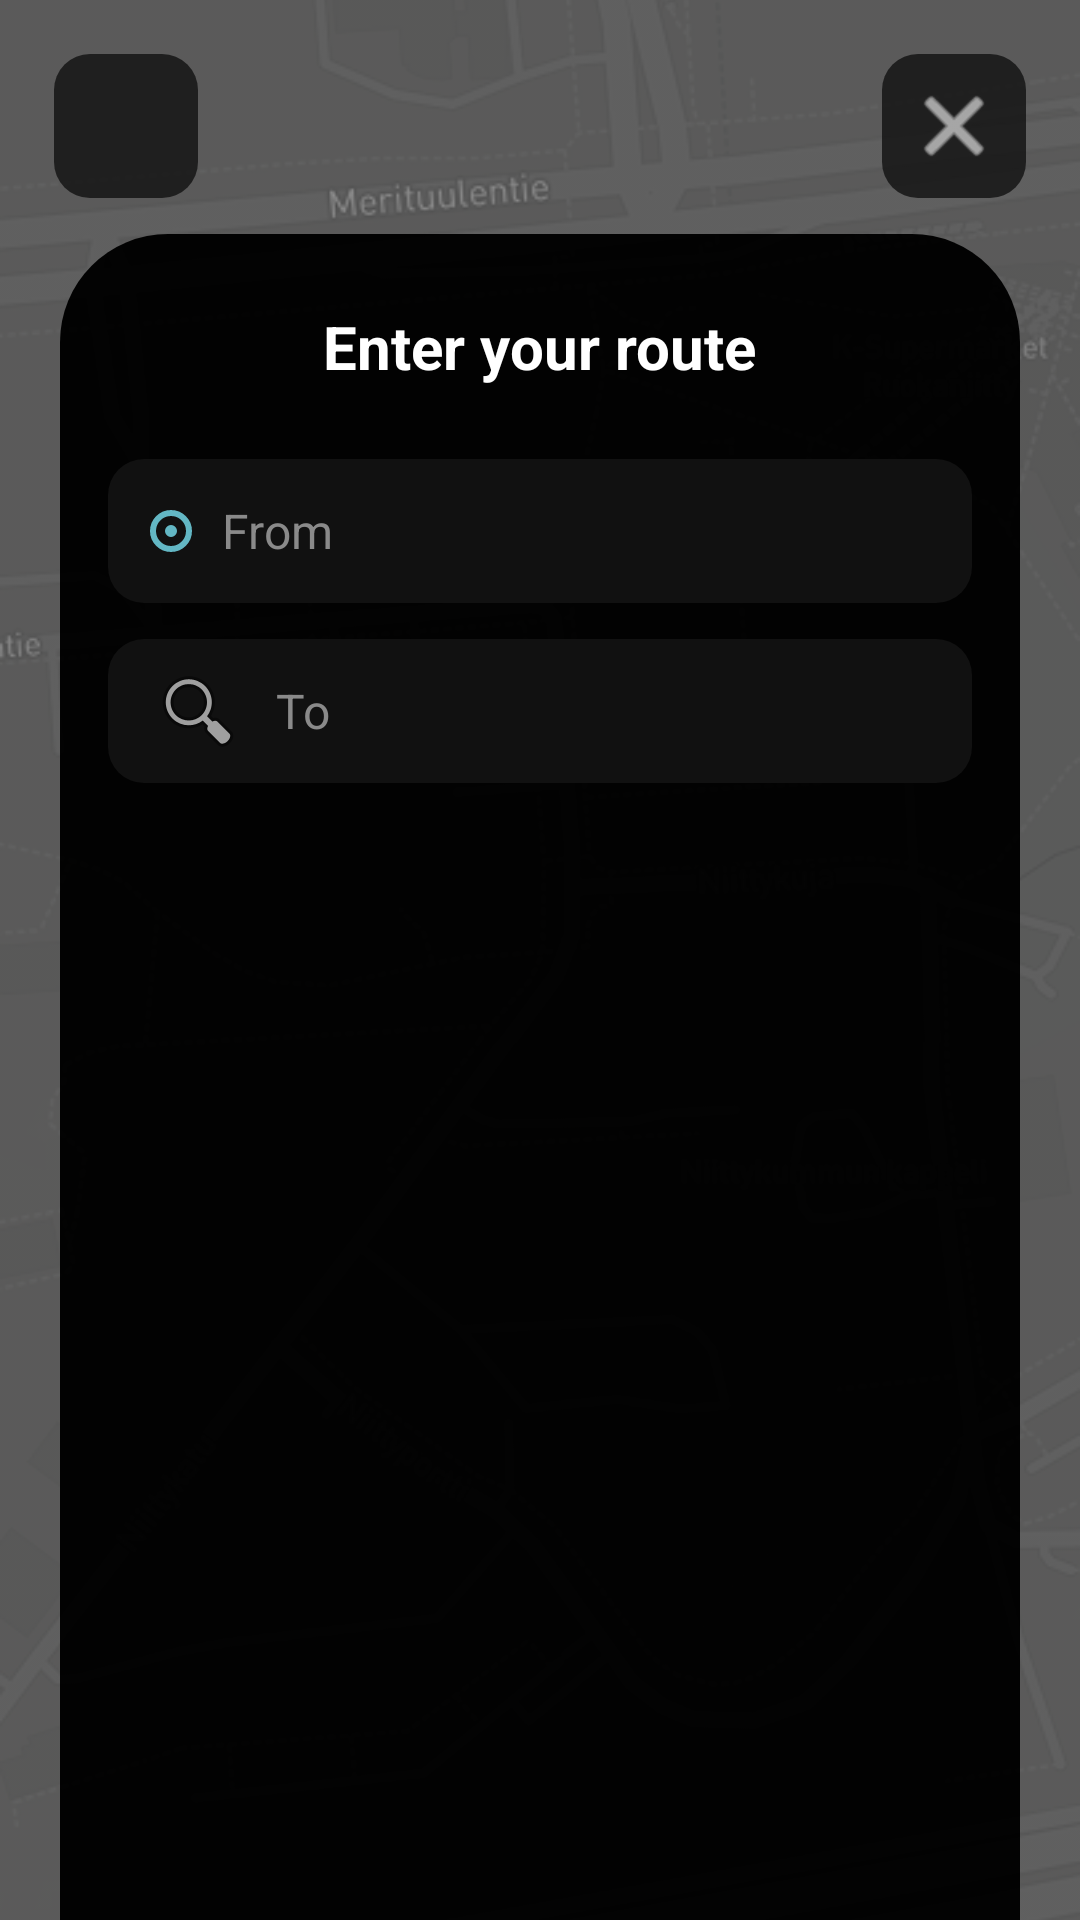

Locate icon controls on the screen. Image size 1080x1920, boxes as (x1, y1, x2, y2).
Close: (882, 54, 1026, 198)
